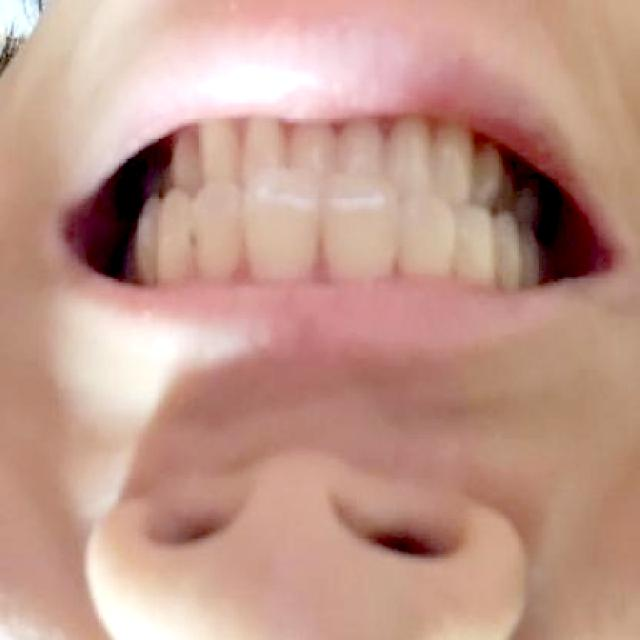Plaque: (176, 222, 204, 249)
